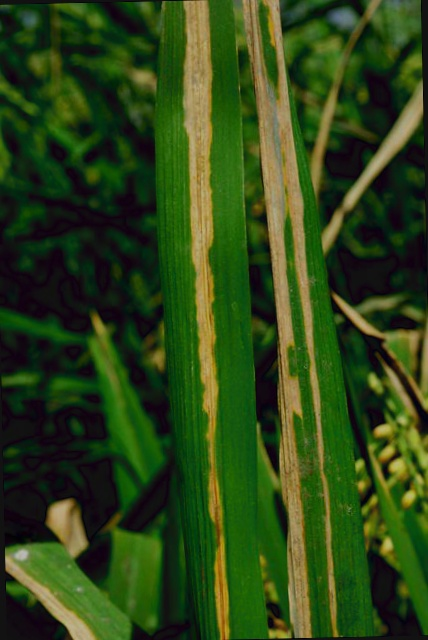Leaf_Blast: (254, 0, 348, 632), (184, 1, 239, 635)
